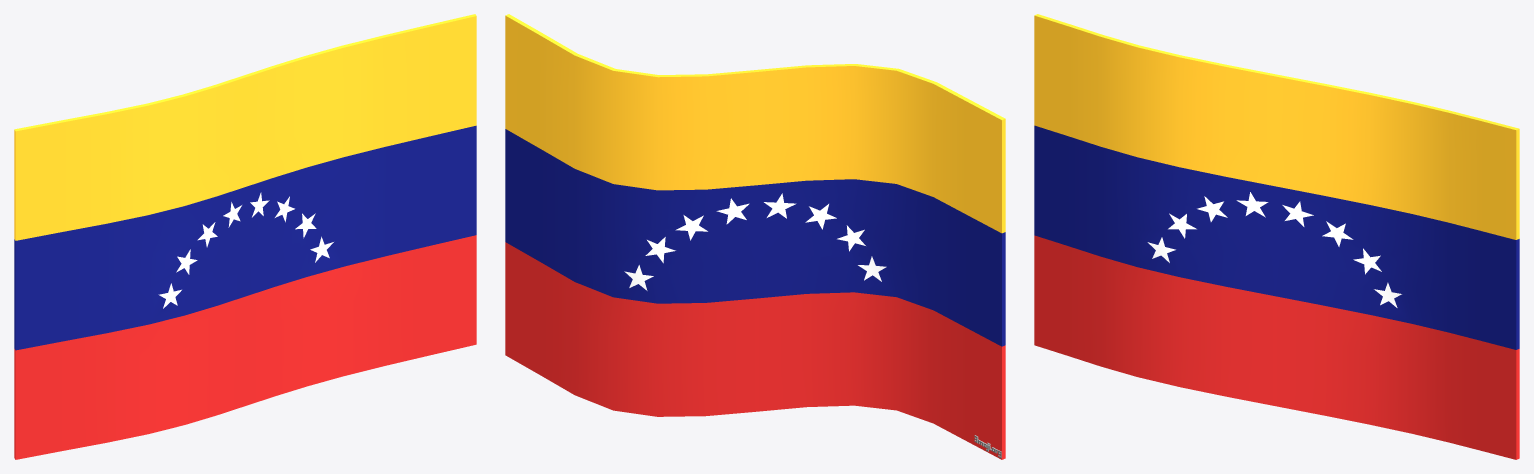
Rendered from flag_venezuela.glb.
3 renders of one model, left to right at view 1: azimuth 30°, elevation 25°; view 2: azimuth 150°, elevation 25°; view 3: azimuth 330°, elevation 25°, orthographic. The views are drawn at different scales.
Visible parts, largest first — view 1: flag_venezuela; view 2: flag_venezuela; view 3: flag_venezuela.
Boxes of the visible parts, <box> form: flag_venezuela: <box>14,14,476,459</box>; flag_venezuela: <box>505,14,1005,459</box>; flag_venezuela: <box>1034,14,1519,459</box>.
Bounding box in the file's own units: 2.18 × 1.58 × 0.3373.
1 material, 1 textured.
